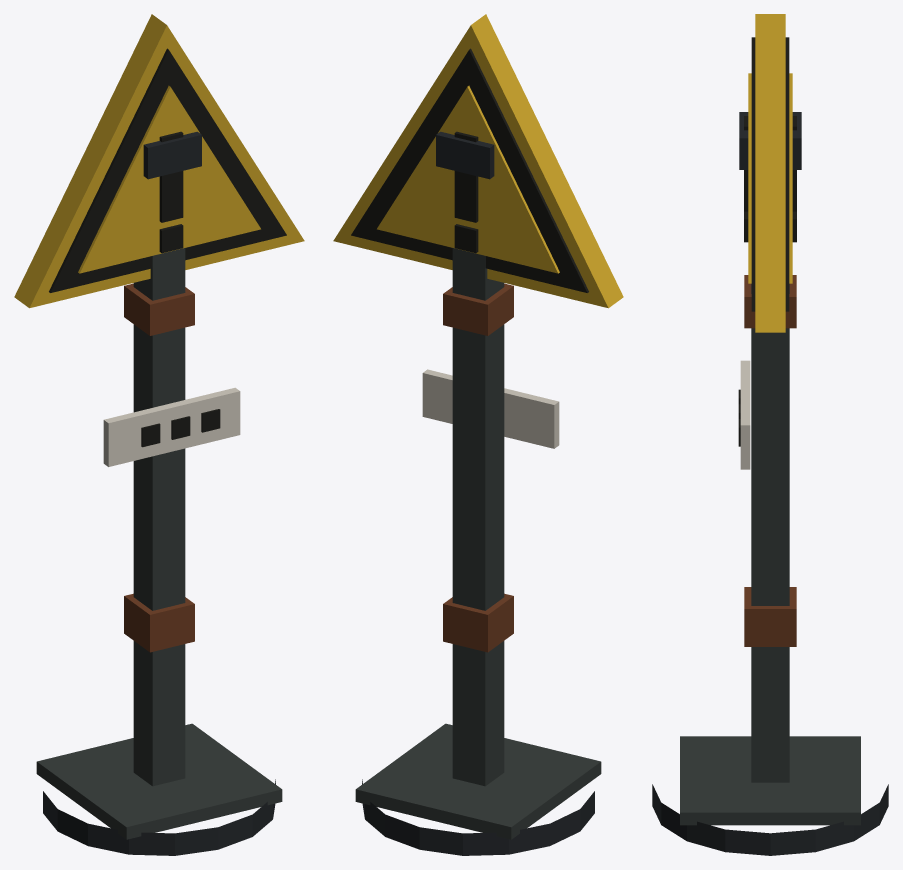
File: sign_warning.glb
3 views of the same model, side by side, from view 1: azimuth 30°, elevation 25°; view 2: azimuth 150°, elevation 25°; view 3: azimuth 270°, elevation 25° (orthographic).
Parts seen in each view (by area): view 1: sign_warning; view 2: sign_warning; view 3: sign_warning.
Part boxes in pixels (x1=…): sign_warning: x1=14, y1=14, x2=304, y2=855; sign_warning: x1=333, y1=14, x2=623, y2=855; sign_warning: x1=652, y1=14, x2=888, y2=855.
Bounding box in the file's own units: 0.46 × 1.26 × 0.34.
